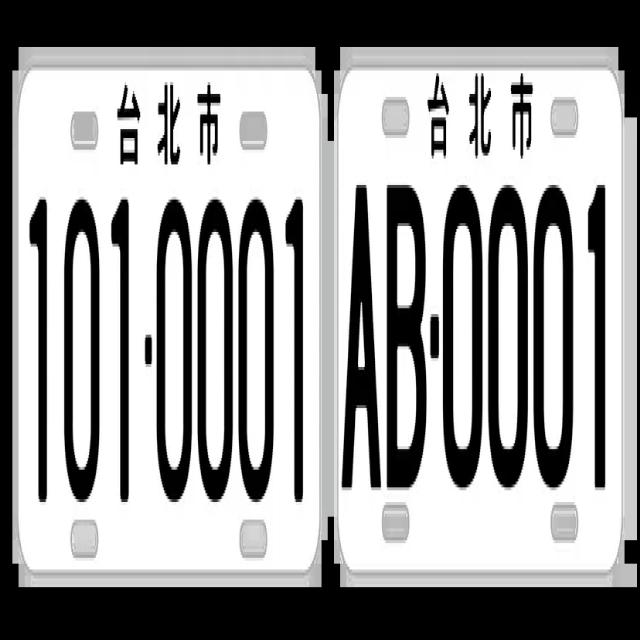license-plate: (18, 57, 322, 582), (336, 52, 626, 586)
